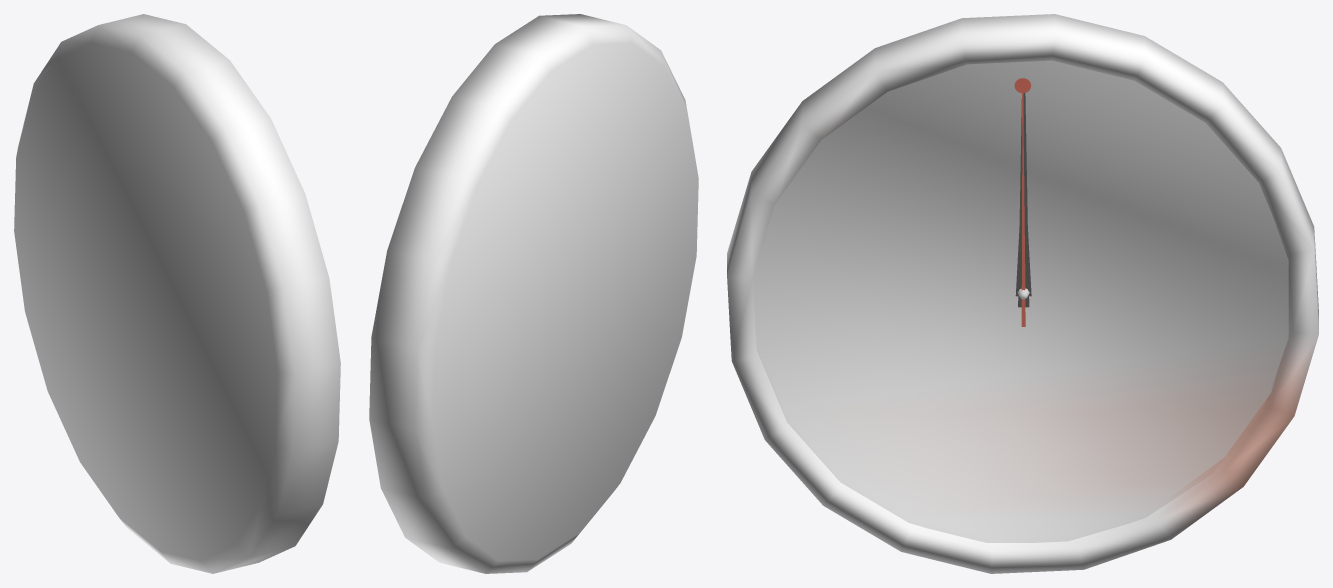
File: clock_dae.dae
The picture shows the model from 3 angles, left to right: view 1: azimuth 30°, elevation 25°; view 2: azimuth 150°, elevation 25°; view 3: azimuth 270°, elevation 25°; orthographic projection. The views are drawn at different scales.
Parts seen in each view (by area): view 1: Circle_016; view 2: Circle_016; view 3: Circle_016, Circle_000, Minuten, Sekunden.
Boxes of the visible parts, left/top/right/bottom form: Circle_016: left=14, top=14, right=340, bottom=573; Circle_016: left=369, top=14, right=698, bottom=573; Circle_016: left=727, top=14, right=1318, bottom=573; Circle_000: left=753, top=61, right=1288, bottom=542; Minuten: left=1018, top=93, right=1029, bottom=307; Sekunden: left=1014, top=78, right=1030, bottom=326.
Bounding box in the file's own units: 0.1027 × 0.8986 × 0.8986.
